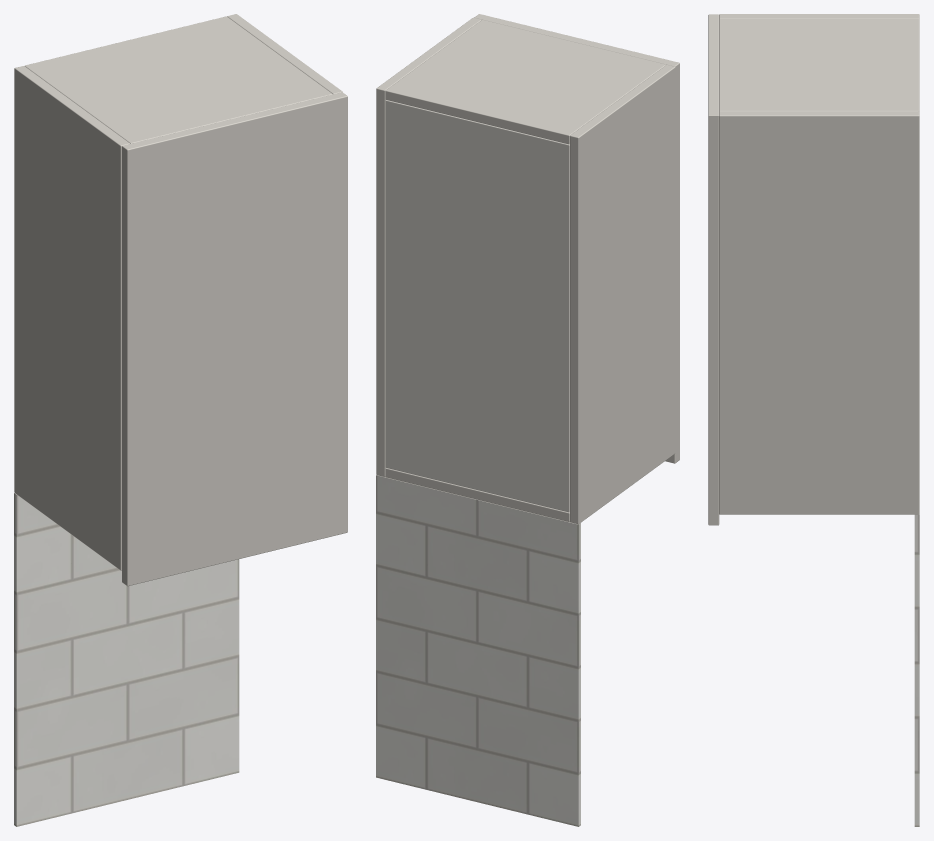
The model's file is upper_cabinet_40.glb.
The picture shows the model from 3 angles, left to right: view 1: azimuth 30°, elevation 25°; view 2: azimuth 150°, elevation 25°; view 3: azimuth 270°, elevation 25°; orthographic projection. The views are drawn at different scales.
Parts seen in each view (by area): view 1: upper_cabinet_40_doors, upper_cabinet_40_carcass, upper_cabinet_40_backsplash; view 2: upper_cabinet_40_carcass, upper_cabinet_40_backsplash, upper_cabinet_40_doors; view 3: upper_cabinet_40_carcass, upper_cabinet_40_doors, upper_cabinet_40_backsplash.
Part boxes in pixels (x1,y1,x2,y2): upper_cabinet_40_doors: (122,92,347,586); upper_cabinet_40_carcass: (14,14,342,570); upper_cabinet_40_backsplash: (14,493,239,826); upper_cabinet_40_carcass: (376,17,675,524); upper_cabinet_40_backsplash: (376,475,580,826); upper_cabinet_40_doors: (474,14,679,463); upper_cabinet_40_carcass: (719,14,919,514); upper_cabinet_40_doors: (708,14,719,525); upper_cabinet_40_backsplash: (914,514,919,826).
Size of the model in its own units: 0.4 by 1.3 by 0.35.
5 materials, 1 textured.
